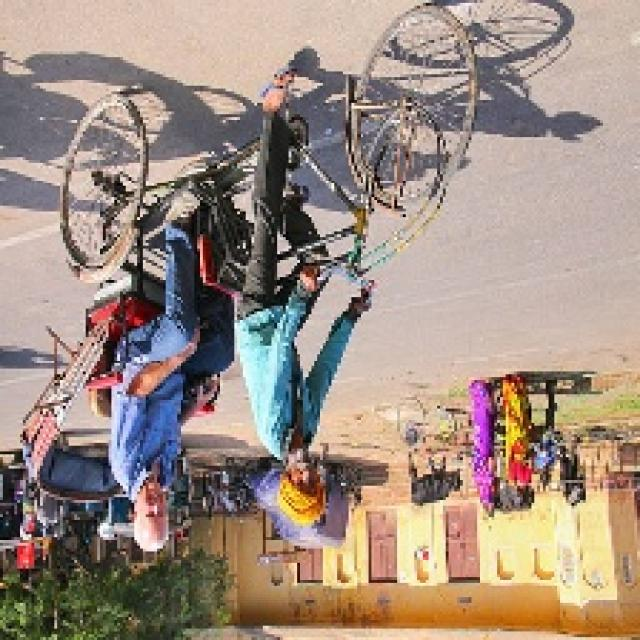rickshaw: (37, 40, 486, 523)
